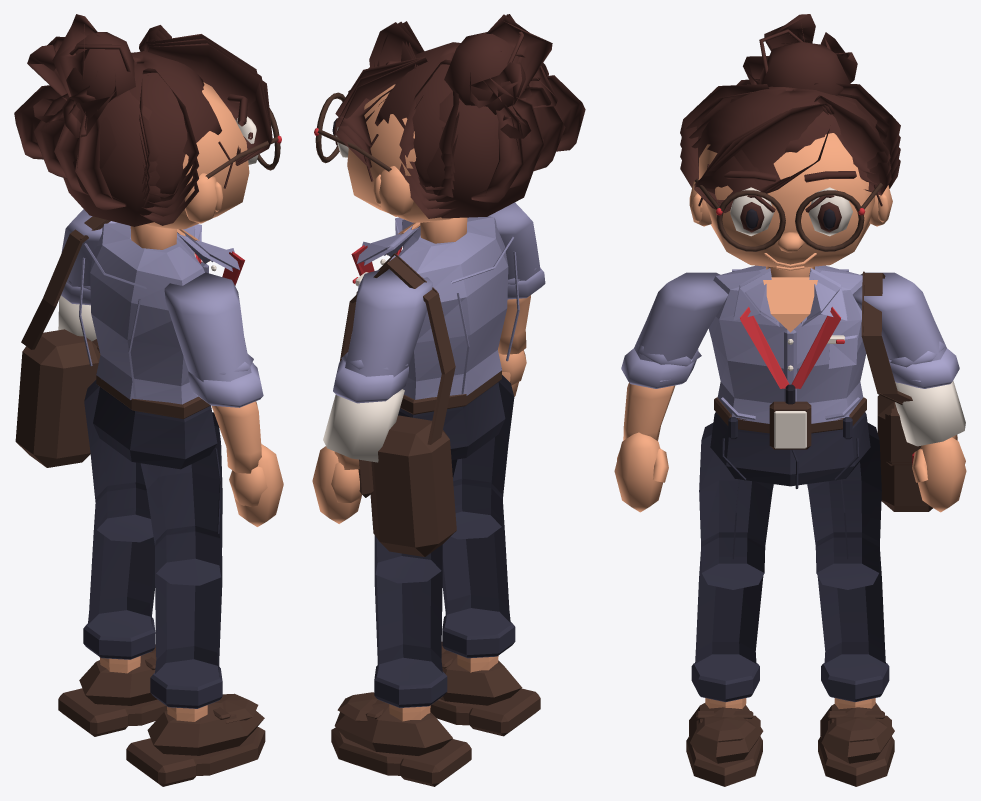
The model's file is npc.civilian-woman-b.aftermath.lod1.glb.
The picture shows the model from 3 angles, left to right: view 1: azimuth 30°, elevation 25°; view 2: azimuth 150°, elevation 25°; view 3: azimuth 270°, elevation 25°; orthographic projection. The views are drawn at different scales.
Parts seen in each view (by area): view 1: head, torso, shinR, footR, shinL, hip, legR, armR, footL, legL, foreArmR, handR (+2 smaller); view 2: head, torso, shinL, footL, shinR, armL, footR, foreArmL, legR, hip, handL, armR (+3 smaller); view 3: head, torso, hip, shinL, shinR, legL, legR, armR, footL, footR, foreArmL, armL (+3 smaller).
Part boxes in pixels (bbox=[...]): head: bbox=[14, 14, 281, 249]; torso: bbox=[15, 216, 244, 467]; shinR: bbox=[150, 525, 222, 708]; footR: bbox=[126, 693, 265, 786]; shinL: bbox=[83, 482, 155, 659]; hip: bbox=[93, 373, 217, 469]; legR: bbox=[140, 412, 222, 585]; armR: bbox=[164, 272, 253, 381]; footL: bbox=[58, 644, 166, 736]; legL: bbox=[84, 380, 153, 542]; foreArmR: bbox=[188, 362, 263, 473]; handR: bbox=[229, 444, 283, 526]; head: bbox=[314, 14, 585, 243]; torso: bbox=[339, 216, 519, 556]; shinL: bbox=[374, 538, 447, 707]; footL: bbox=[331, 692, 471, 786]; shinR: bbox=[442, 478, 515, 658]; armL: bbox=[341, 269, 432, 377]; footR: bbox=[430, 642, 540, 736]; foreArmL: bbox=[323, 360, 408, 469]; legR: bbox=[451, 375, 514, 539]; hip: bbox=[398, 368, 505, 459]; handL: bbox=[312, 446, 361, 523]; armR: bbox=[488, 202, 540, 284]; head: bbox=[680, 14, 900, 277]; torso: bbox=[708, 265, 932, 511]; hip: bbox=[710, 397, 870, 488]; shinL: bbox=[815, 532, 889, 702]; shinR: bbox=[691, 532, 765, 702]; legL: bbox=[807, 423, 881, 589]; legR: bbox=[699, 423, 773, 589]; armR: bbox=[634, 272, 728, 366]; footL: bbox=[818, 698, 894, 786]; footR: bbox=[686, 698, 763, 786]; foreArmL: bbox=[888, 348, 965, 446]; armL: bbox=[852, 272, 946, 367].
Size of the model in its own units: 0.5403 by 1.83 by 0.8225.
